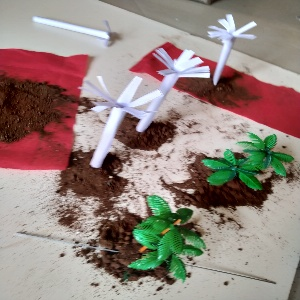plant: (201, 124, 300, 202), (131, 195, 212, 285)
weed: (82, 67, 145, 180), (137, 35, 207, 136), (202, 7, 268, 89), (30, 8, 116, 47)
